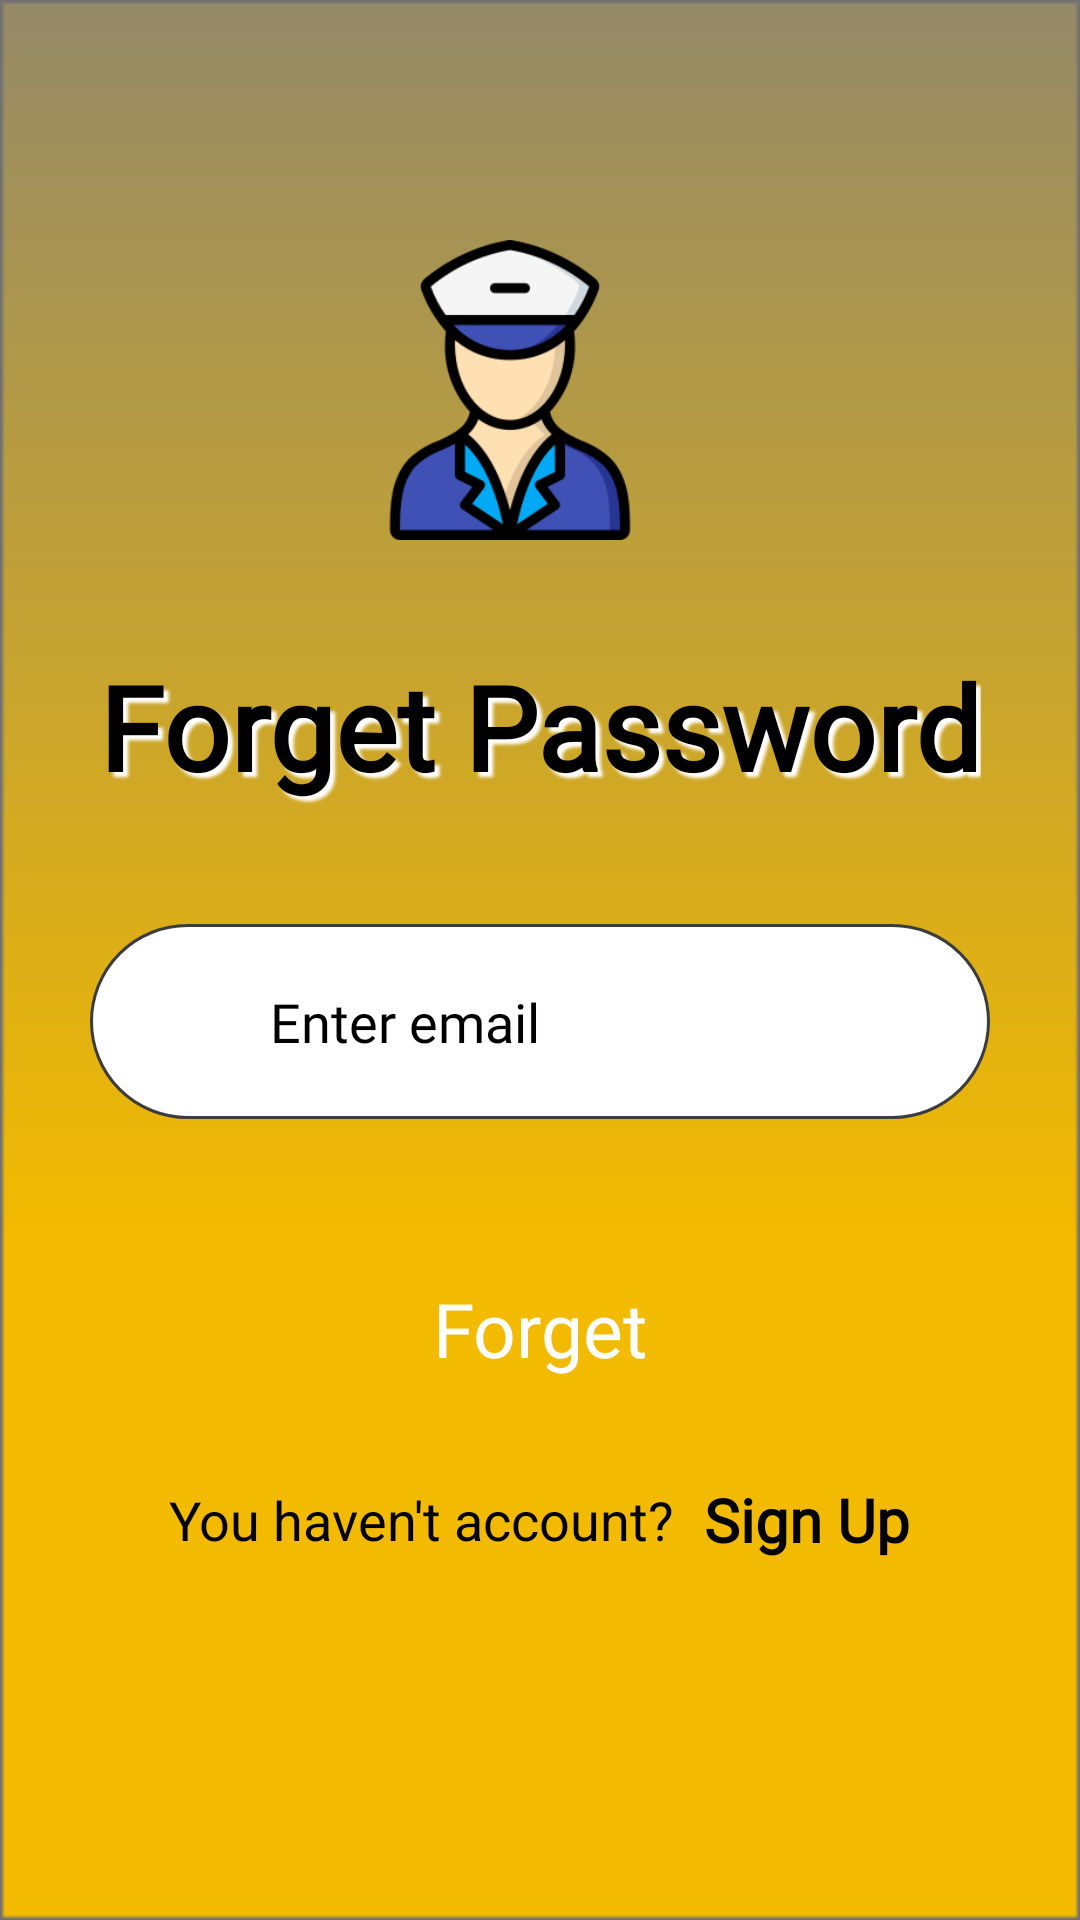

Screen size 1080w x 1920h. Icon name, then its box in pixels as Rect(x1, y1, x2, y2):
conductor: Rect(360, 240, 660, 540)
